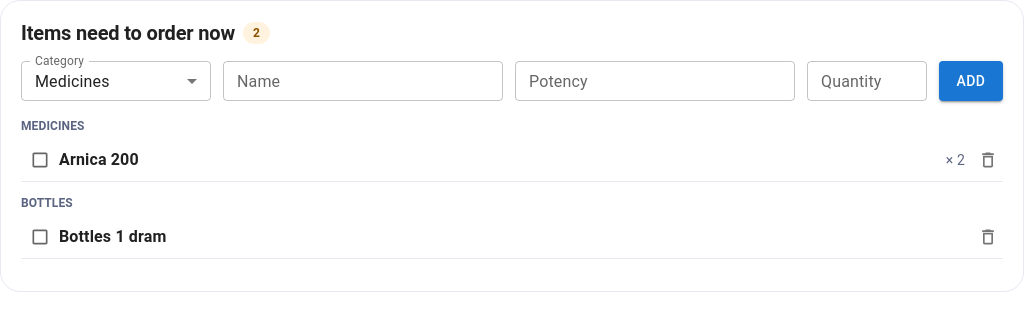
Test: offers names entered before, including already ordered ones
The width and height of the screenshot is (1024, 309).
Click the dropdown labelled "Name": (362, 81) x1=229 y1=67 x2=494 y2=95
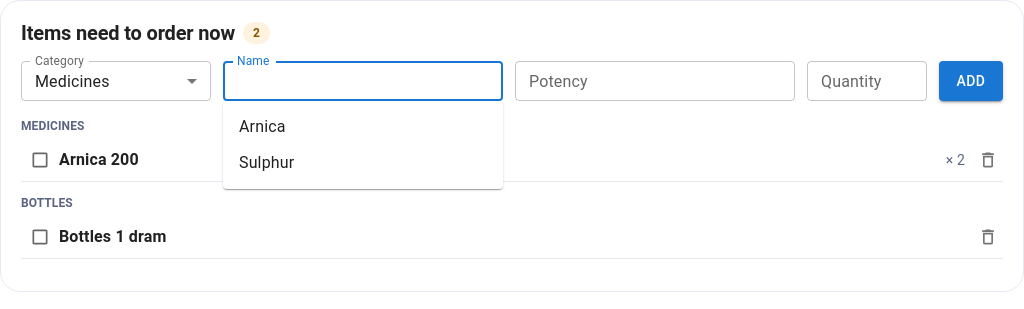
Now the option "Arnica" is shown, box x1=239 y1=117 x2=286 y2=136
Now the option "Sulphur" is shown, box x1=239 y1=153 x2=294 y2=172
